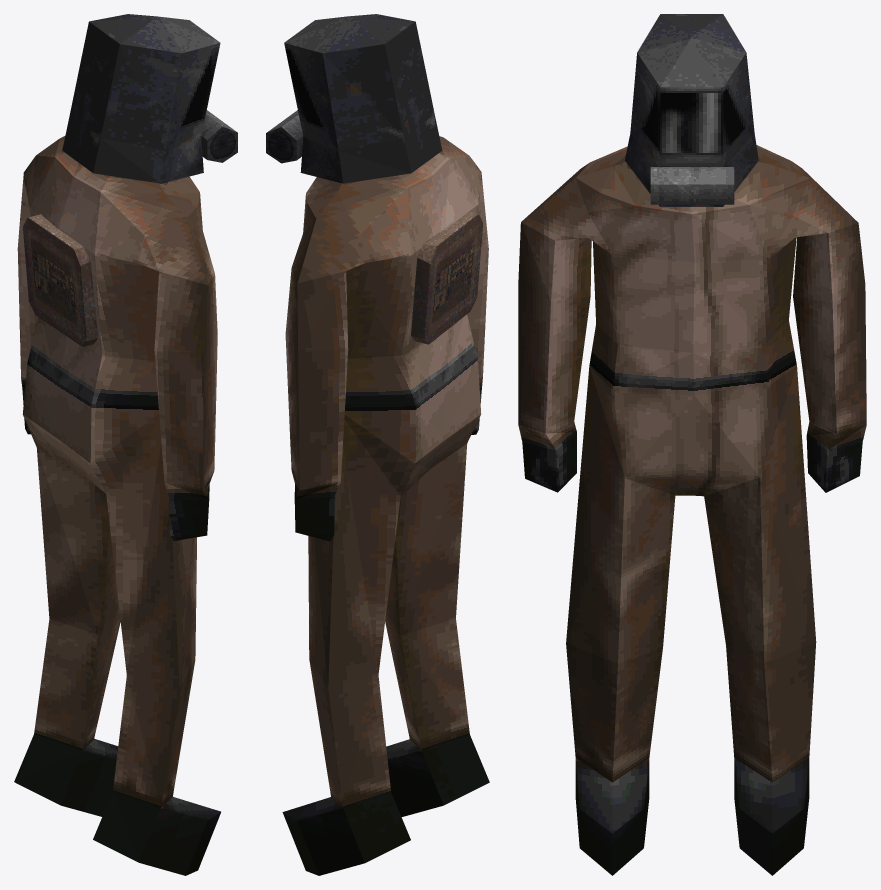
Rendered from suit.gltf.
The picture shows the model from 3 angles, left to right: view 1: azimuth 30°, elevation 25°; view 2: azimuth 150°, elevation 25°; view 3: azimuth 270°, elevation 25°; orthographic projection.
Parts seen in each view (by area): view 1: F:\Desktop\NuakeDump\LibreQuake-master\freeassets\bryan\suit; view 2: F:\Desktop\NuakeDump\LibreQuake-master\freeassets\bryan\suit; view 3: F:\Desktop\NuakeDump\LibreQuake-master\freeassets\bryan\suit.
Part boxes in pixels (x1,y1,x2,y2): F:\Desktop\NuakeDump\LibreQuake-master\freeassets\bryan\suit: (14,14,237,875); F:\Desktop\NuakeDump\LibreQuake-master\freeassets\bryan\suit: (266,14,489,875); F:\Desktop\NuakeDump\LibreQuake-master\freeassets\bryan\suit: (518,14,866,875).
Bounding box in the file's own units: 9.81 × 45.53 × 17.16.
1 material, 1 textured.
